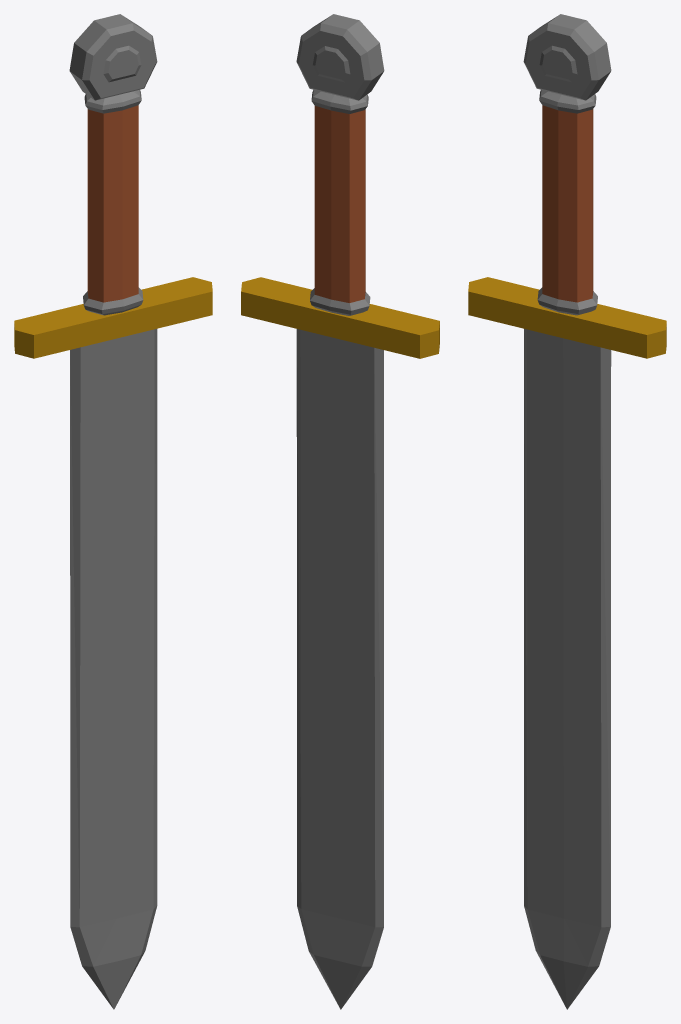
File: Prop_Fantasy_Weapon_Dagger_01.FBX
3 views of the same model, side by side, from view 1: azimuth 30°, elevation 25°; view 2: azimuth 150°, elevation 25°; view 3: azimuth 330°, elevation 25° (orthographic).
Parts seen in each view (by area): view 1: Prop_Fantasy_Weapon_Dagger_01; view 2: Prop_Fantasy_Weapon_Dagger_01; view 3: Prop_Fantasy_Weapon_Dagger_01.
Boxes of the visible parts, box(x1,y1,x2,y2) form: Prop_Fantasy_Weapon_Dagger_01: box(14, 14, 212, 1009); Prop_Fantasy_Weapon_Dagger_01: box(241, 14, 439, 1009); Prop_Fantasy_Weapon_Dagger_01: box(468, 14, 666, 1009).
Size of the model in its own units: 126 by 606 by 24.14.
